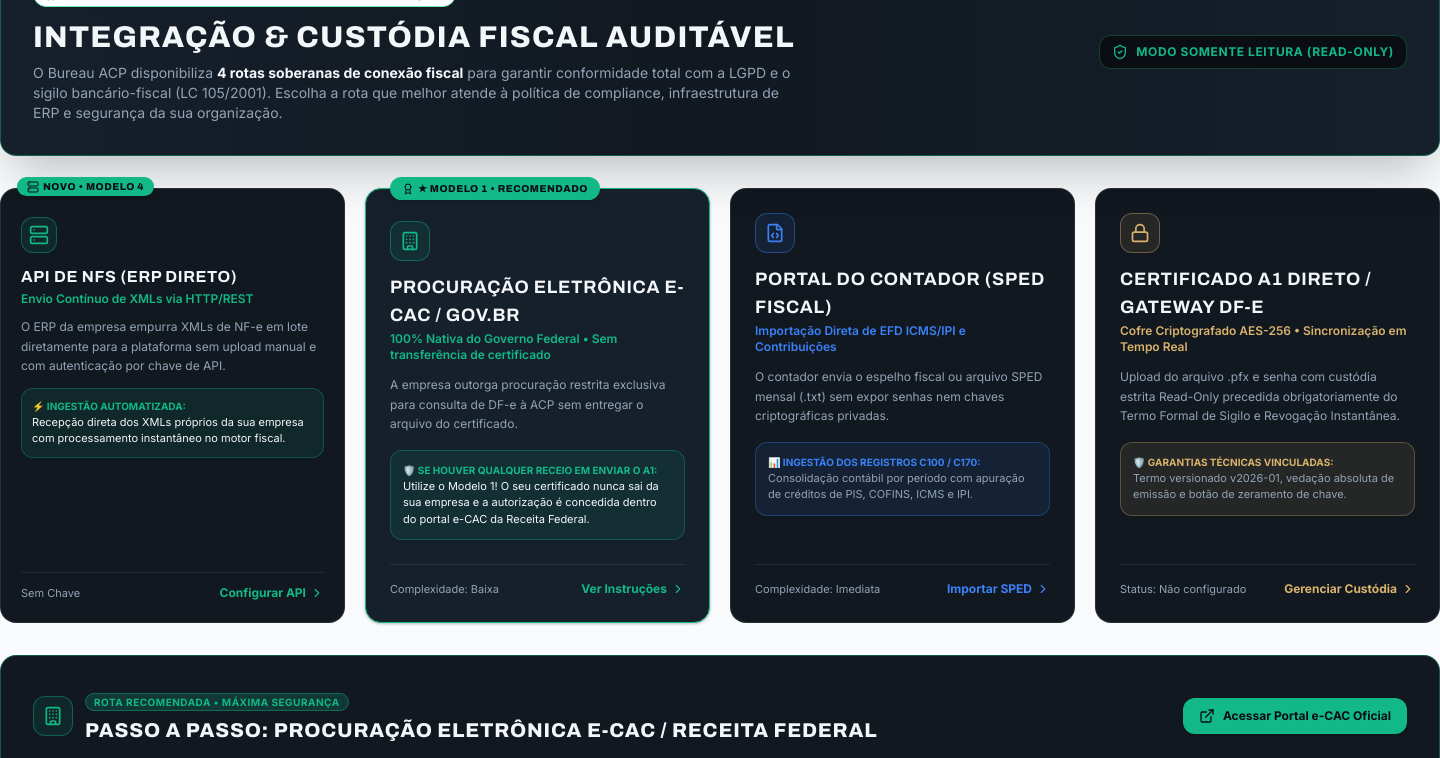
Test case: HubConexaoFiscal: Modelo 3 - Custódia A1 com upload .pfx, aceite direto e validade › exibe alerta de atenção e badge quando certificado estiver a menos de 90 dias do vencimento
Step 1. Click the heading "Certificado A1 Direto / Gateway DF-e" → (1246, 279), box 1120,265 -> 1415,321
(page scrolled)
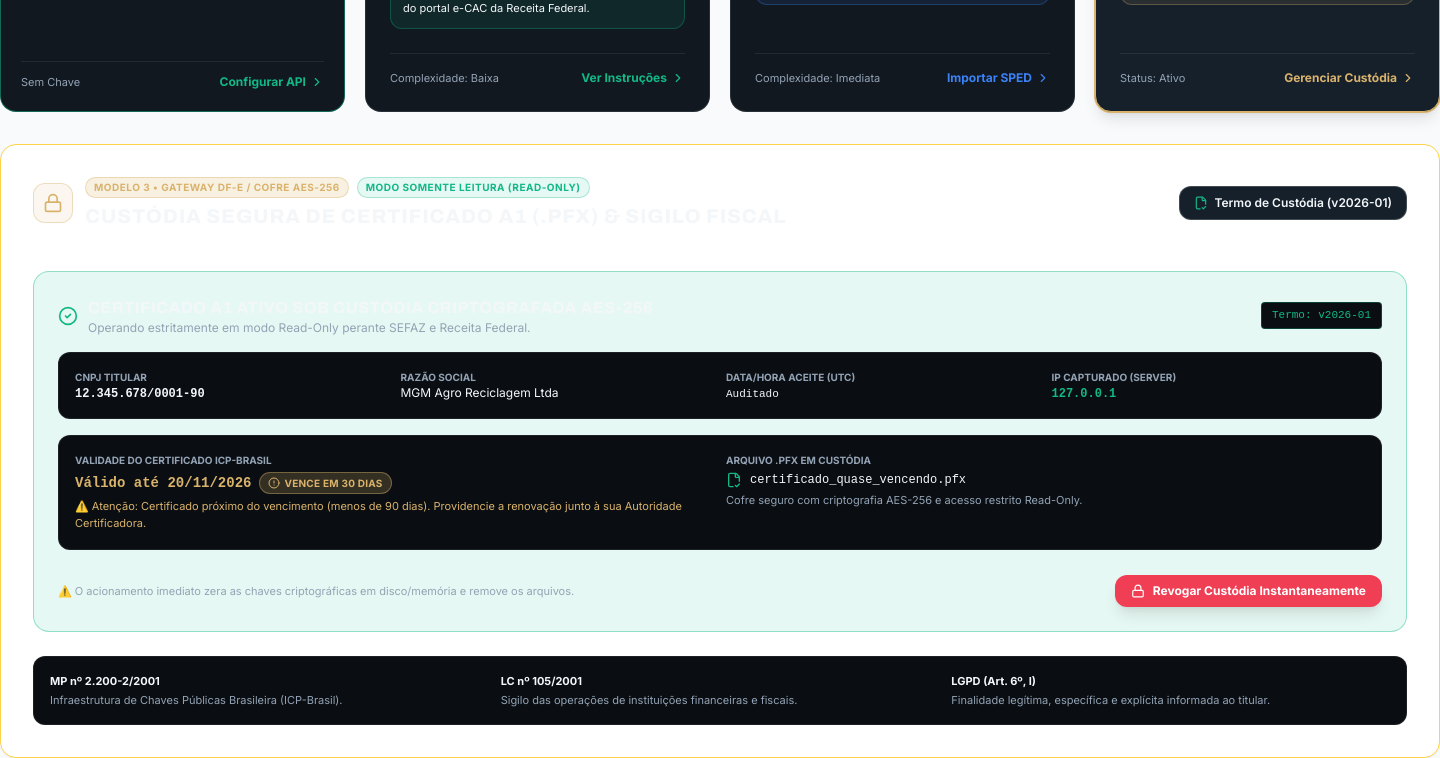
Expected: the text "Vence em 30 dias" is shown, 259,472 -> 392,494
Expected: the text "Atenção: Certificado próximo do vencimento" is shown, 75,498 -> 682,530
